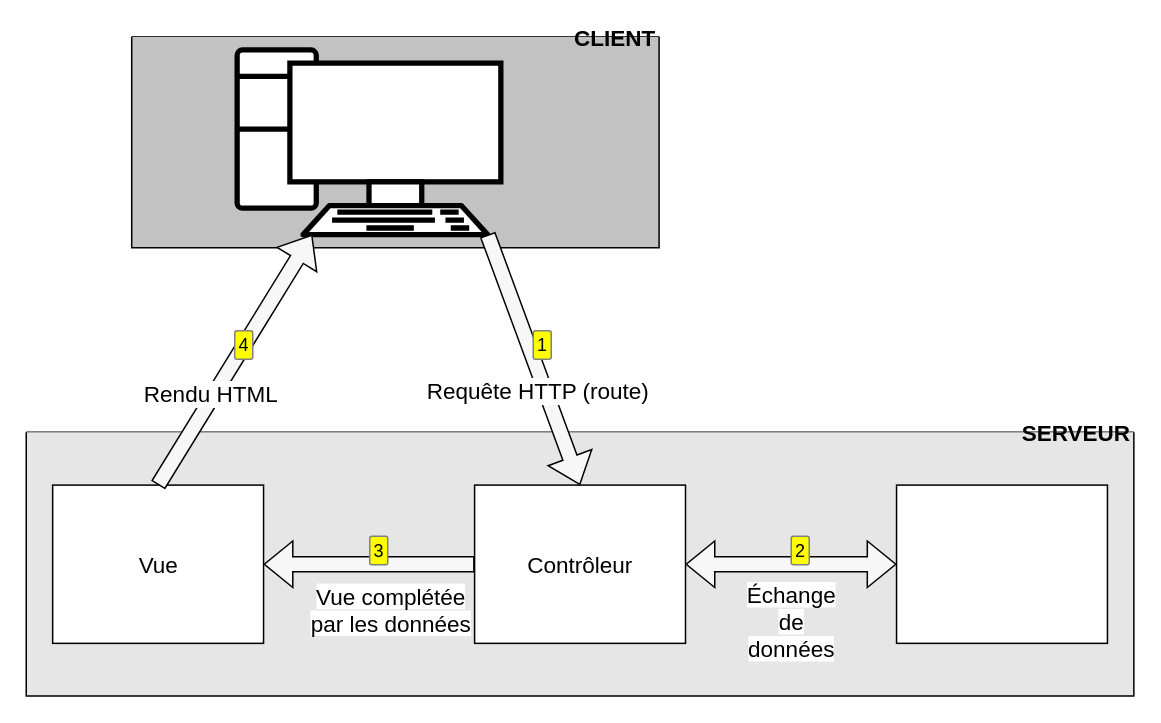
Image size: 1161x723. Some labels were removed from this diagram. The centre of each missing label's shape, as x and y in pixels:
Modèle: (1001,563)
Utilisateur: (368,141)
